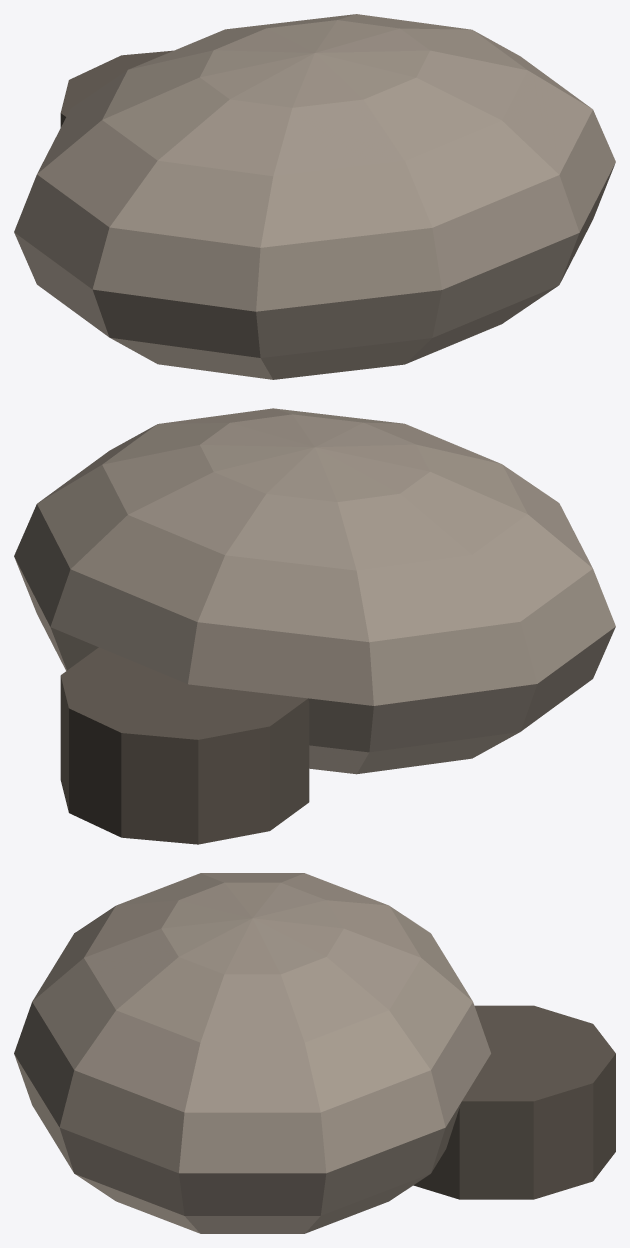
The model's file is bear_den.dae.
3 views of the same model, one above another, from view 1: azimuth 30°, elevation 25°; view 2: azimuth 150°, elevation 25°; view 3: azimuth 270°, elevation 25° (orthographic). The views are drawn at different scales.
Visible parts, largest first — view 1: Sphere, Cylinder; view 2: Sphere, Cylinder; view 3: Sphere, Cylinder.
Part boxes in pixels (<box>): Sphere: <box>14,14,615,379</box>; Cylinder: <box>60,50,173,127</box>; Sphere: <box>14,408,615,774</box>; Cylinder: <box>60,647,309,844</box>; Sphere: <box>14,873,490,1233</box>; Cylinder: <box>413,1005,615,1199</box>.
Size of the model in its own units: 105 by 111 by 55.
